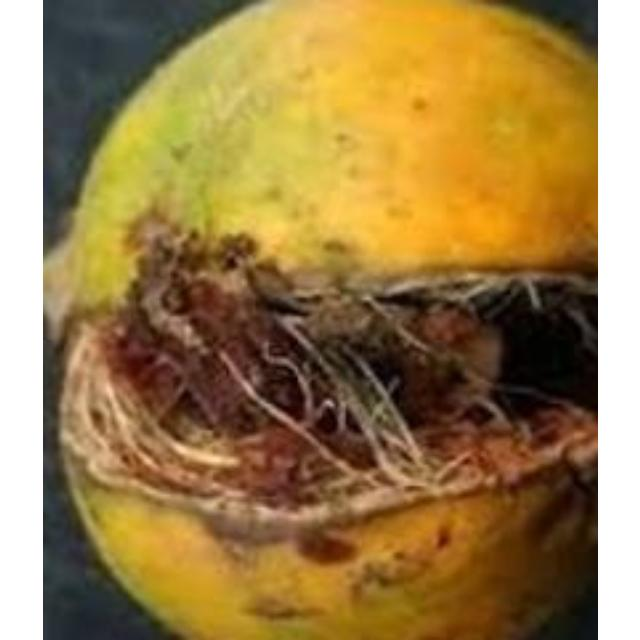damaged: (42, 0, 594, 637)
